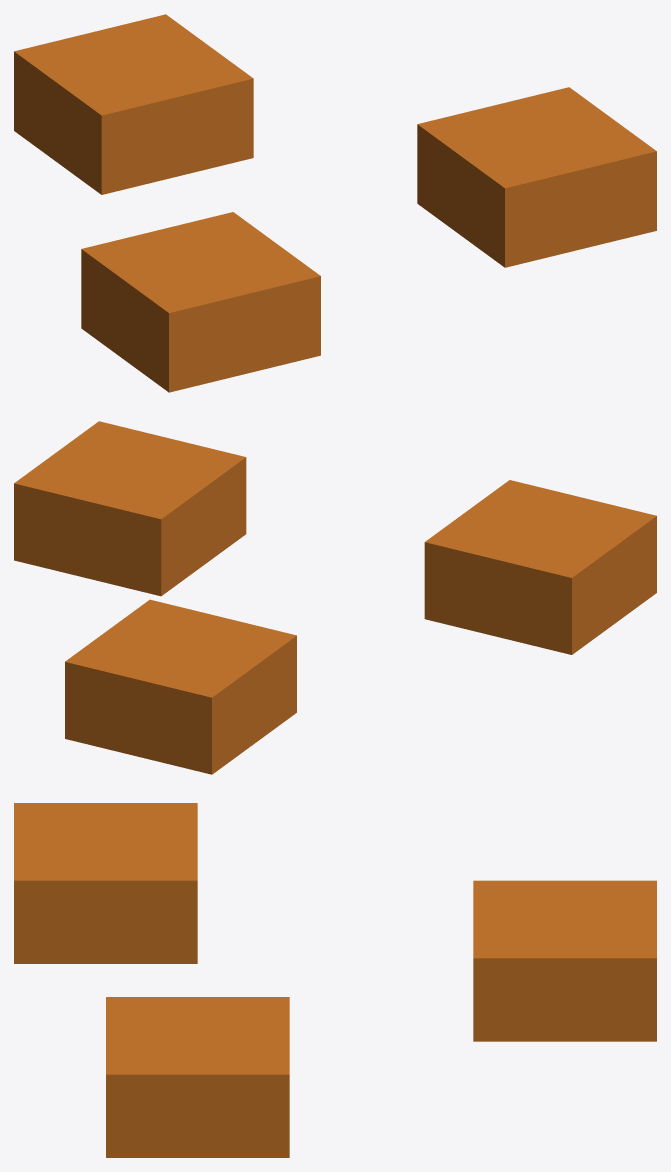
Rendered from Pebble_01.obj.
3 views of the same model, one above another, from view 1: azimuth 30°, elevation 25°; view 2: azimuth 150°, elevation 25°; view 3: azimuth 270°, elevation 25° (orthographic). The views are drawn at different scales.
Parts seen in each view (by area): view 1: Untitled; view 2: Untitled; view 3: Untitled.
Boxes of the visible parts, x1,y1,x2,y2 form: Untitled: (14, 14, 656, 392); Untitled: (14, 421, 656, 774); Untitled: (14, 803, 656, 1157).
Bounding box in the file's own units: 0.7 × 0.1 × 0.7.
Materials: 1 (1 with a texture image).
